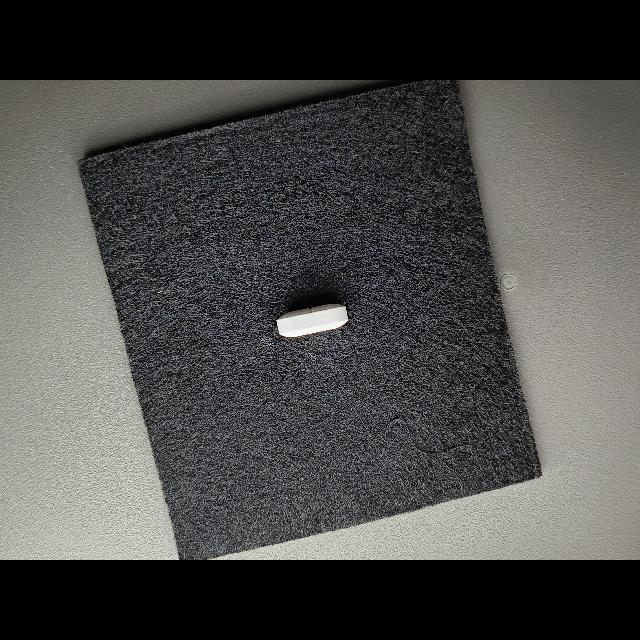Intact Pill: (276, 303, 349, 337)
